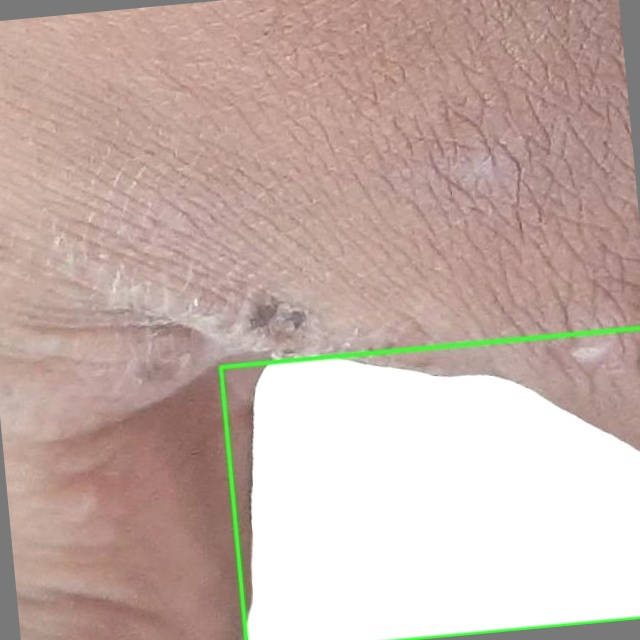Scabies: (220, 328, 639, 639)
